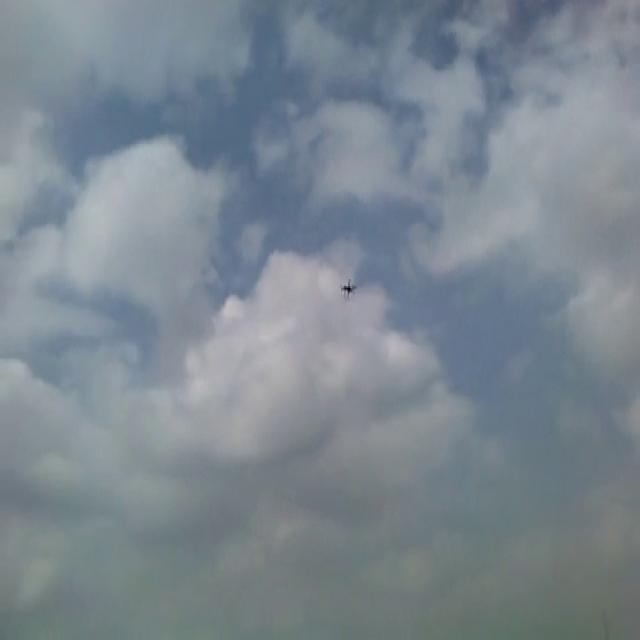drone: (339, 270, 359, 299)
